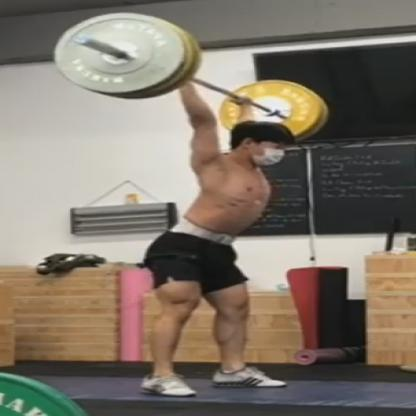barbell: (54, 12, 328, 139)
